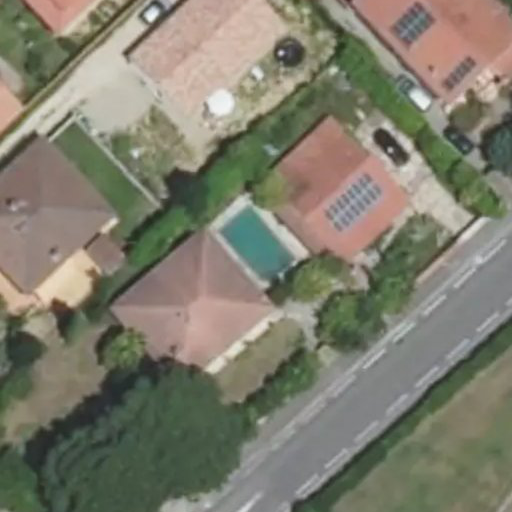pool: (216, 226, 295, 257)
